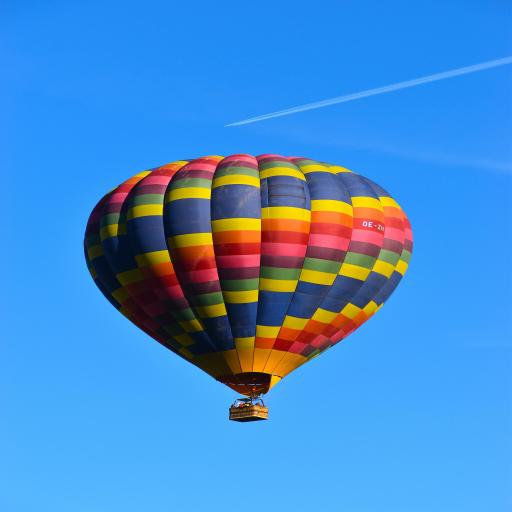hot air ballon: (85, 155, 413, 423)
